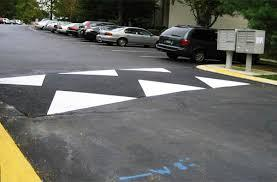Bump: (0, 63, 257, 120)
